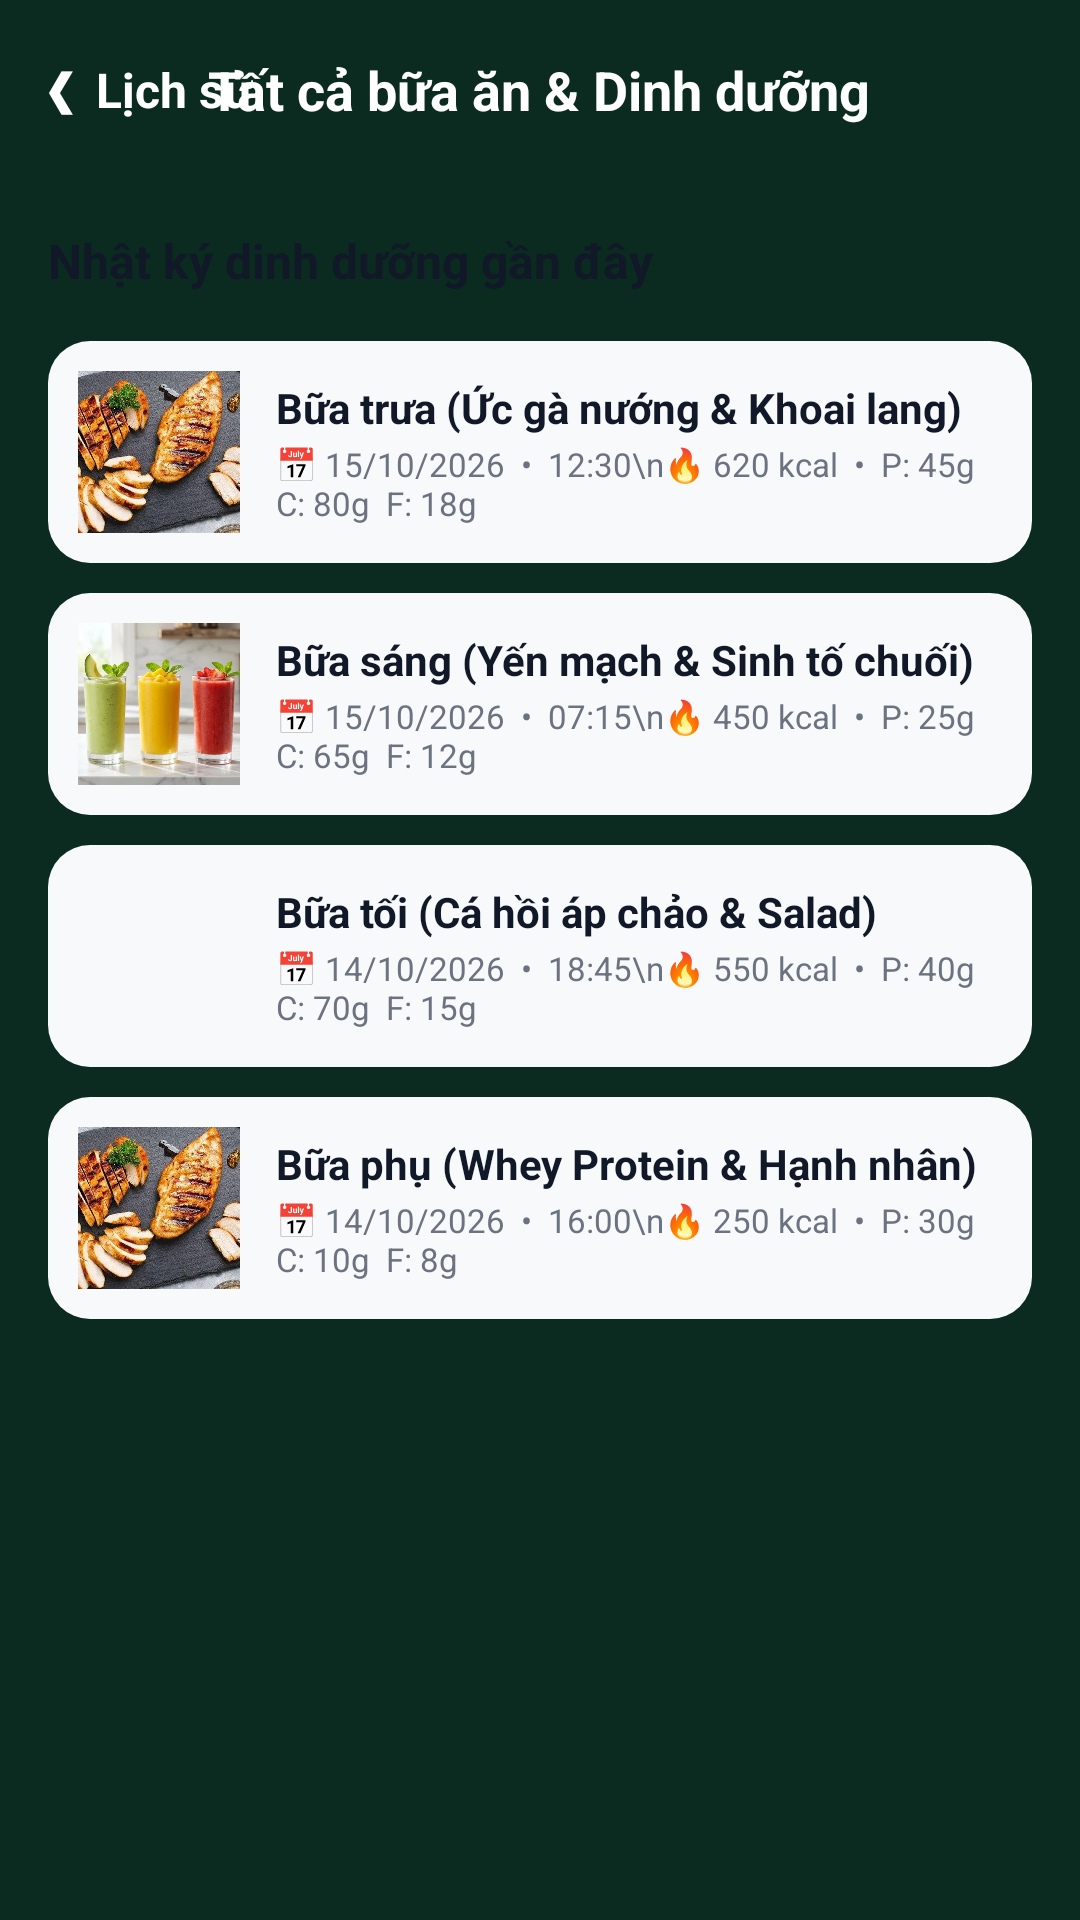

Point at icon controls on the screen. Image size 1080px x 1920px, points as (x=x, y=y).
chicken: (x=159, y=452), (x=159, y=1208)
sinhto: (x=159, y=704)
